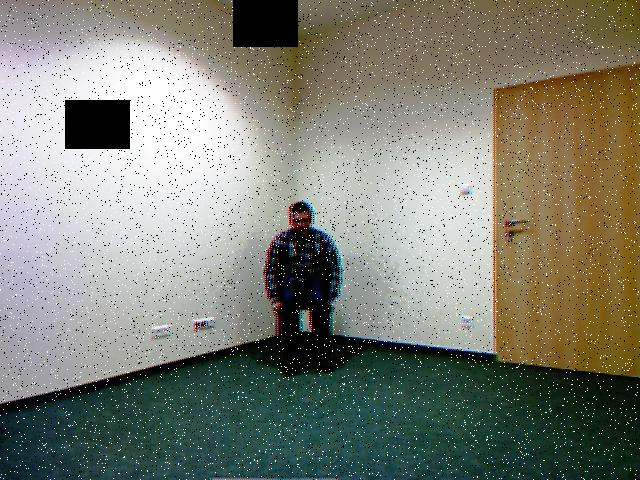sitting: (256, 193, 356, 389)
